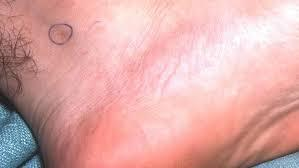Spider: (48, 23, 72, 44)
